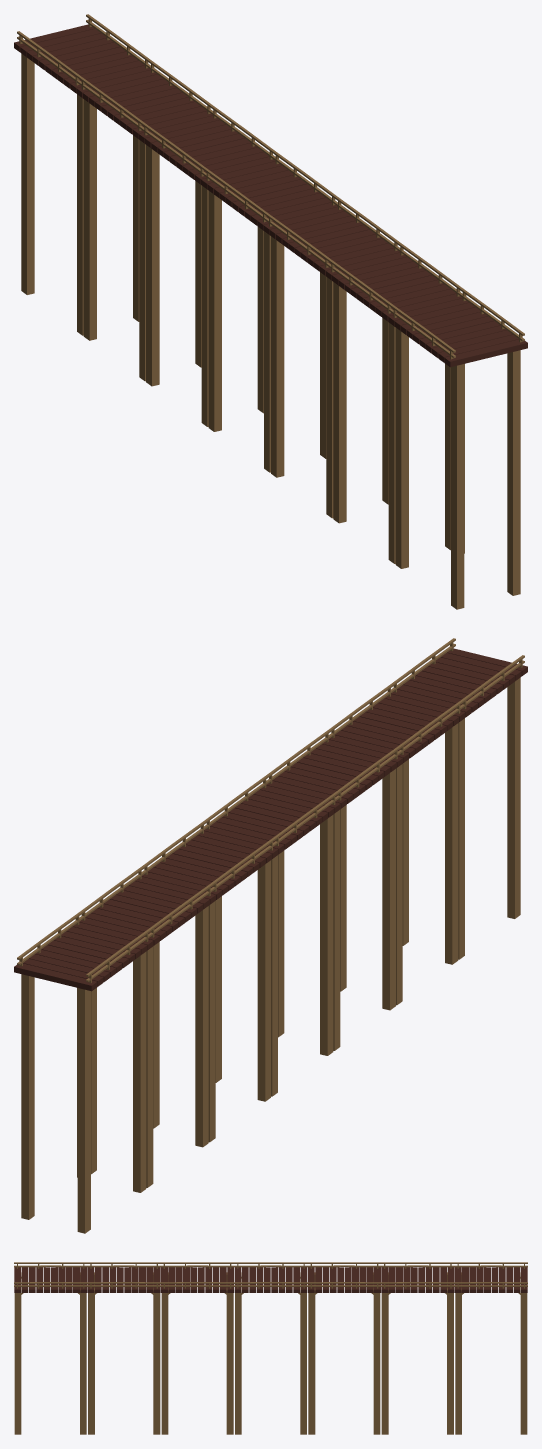
The model's file is most.fbx.
The picture shows the model from 3 angles, top to bottom: view 1: azimuth 30°, elevation 25°; view 2: azimuth 150°, elevation 25°; view 3: azimuth 270°, elevation 25°; orthographic projection. The views are drawn at different scales.
Parts seen in each view (by area): view 1: Cube.001; view 2: Cube.001; view 3: Cube.001.
Boxes of the visible parts, bbox=[...] form: Cube.001: bbox=[14, 14, 527, 609]; Cube.001: bbox=[14, 638, 527, 1233]; Cube.001: bbox=[14, 1262, 527, 1434].
Bounding box in the file's own units: 7.21 × 23.03 × 70.07.
